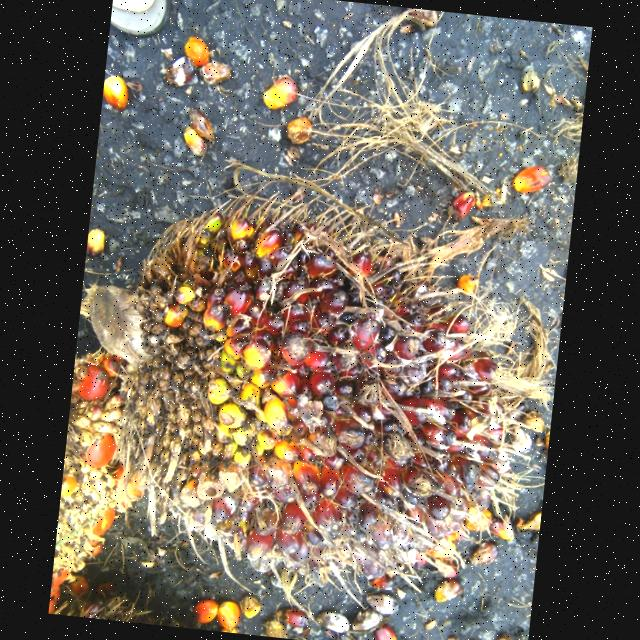Ripe: (124, 196, 509, 586)
